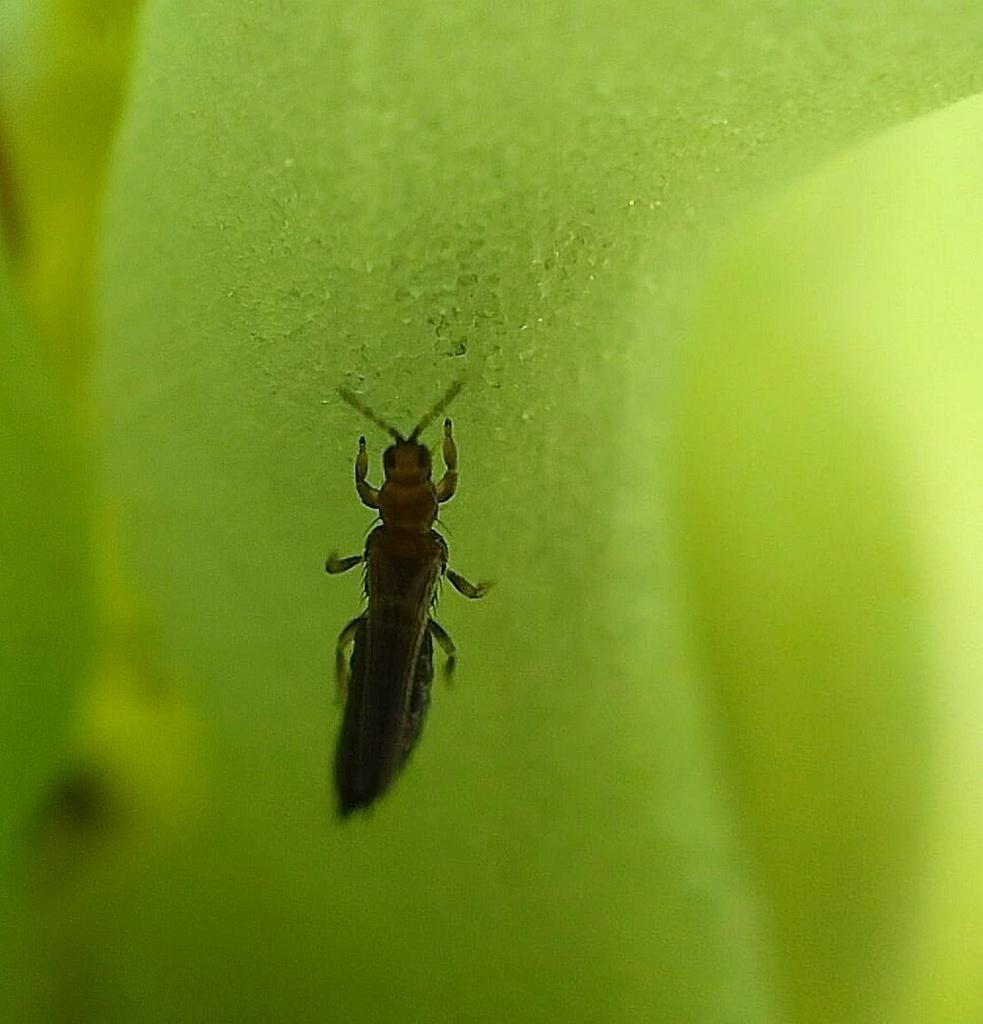tiny_pests: (286, 351, 520, 859)
